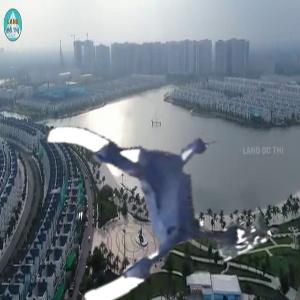drone: (39, 94, 241, 296)
